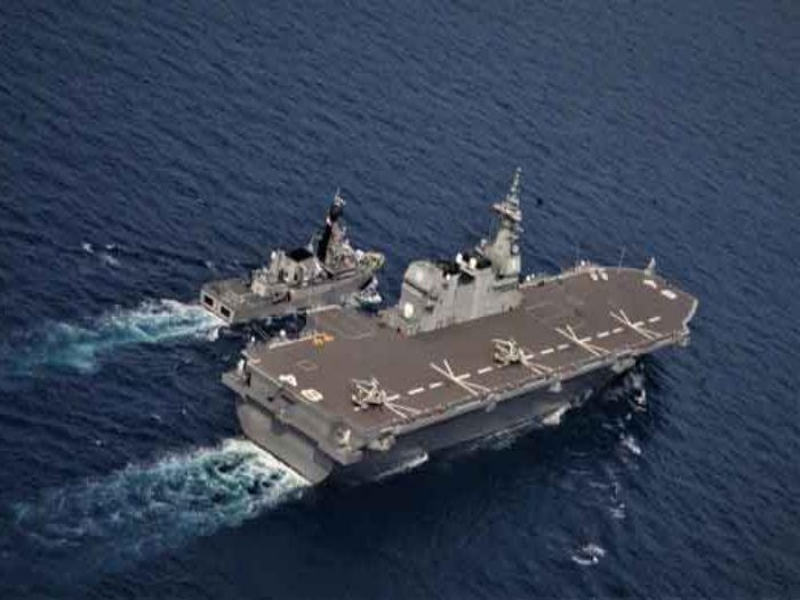carrier: (245, 269, 710, 474)
cruise: (191, 199, 378, 312)
